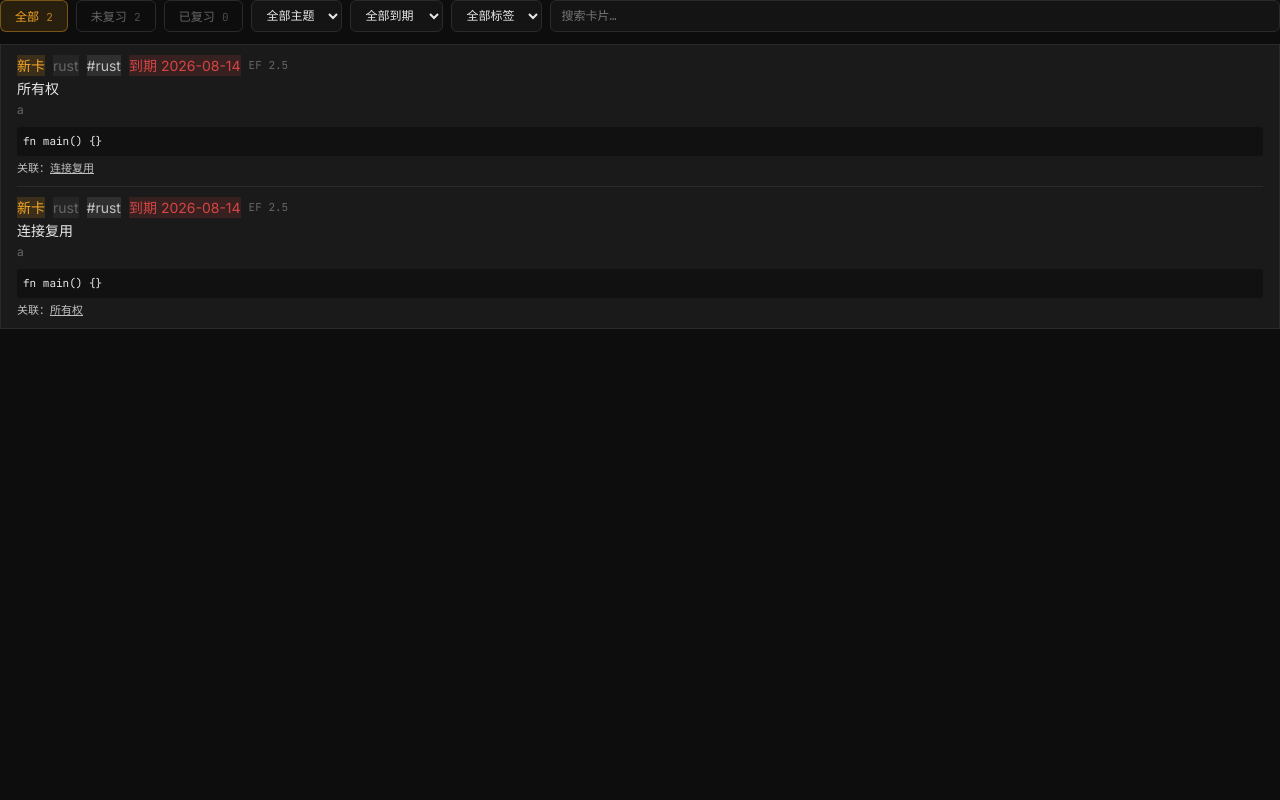
Test: CardLibrary（标签筛选） › 点击关联卡片跳转到编辑
Step 1. Click the link "连接复用" → (72, 168), box [50,160,94,174]
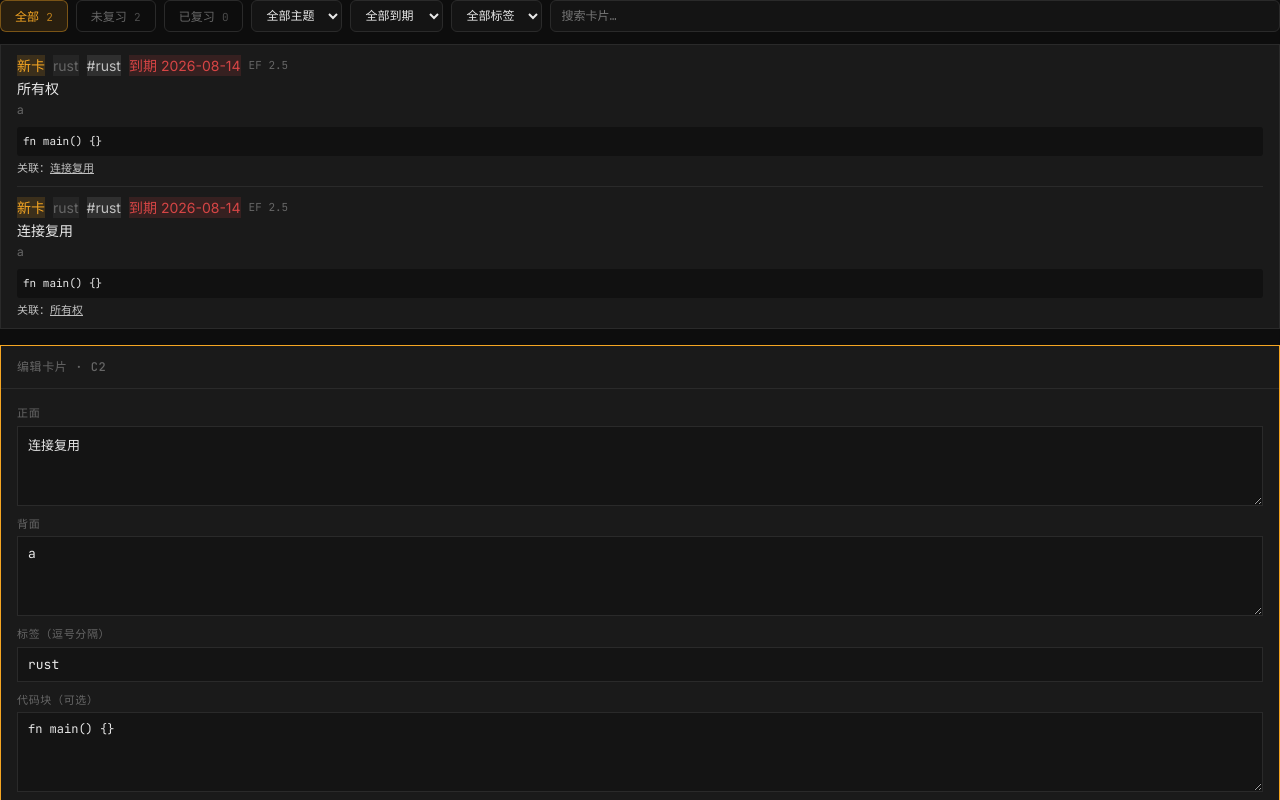
Now the text "编辑卡片" is shown, box [17,359,91,375]
